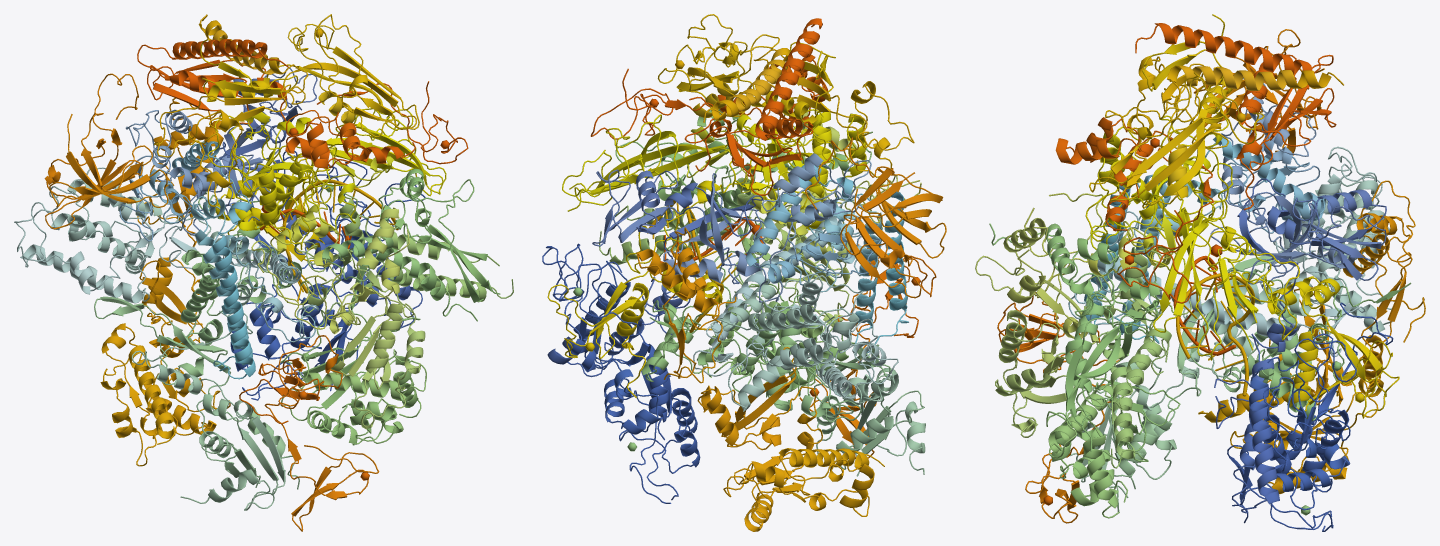
File: Protein_Model.glb
3 renders of one model, left to right at view 1: azimuth 30°, elevation 25°; view 2: azimuth 150°, elevation 25°; view 3: azimuth 270°, elevation 25°, orthographic. The views are drawn at different scales.
Parts seen in each view (by area): view 1: node-geom15_29, node-geom17_27, node-geom19_25, node-geom14_30, node-geom13_31, node-geom12_32, node-geom11_33, node-geom18_26, node-geom10_34, node-geom16_28, node-geom9_35, node-geom20_24; view 2: node-geom10_34, node-geom18_26, node-geom12_32, node-geom16_28, node-geom17_27, node-geom9_35, node-geom19_25, node-geom11_33, node-geom13_31, node-geom14_30, node-geom15_29, node-geom20_24; view 3: node-geom17_27, node-geom13_31, node-geom16_28, node-geom14_30, node-geom10_34, node-geom9_35, node-geom15_29, node-geom19_25, node-geom12_32, node-geom18_26, node-geom11_33, node-geom20_24.
Boxes of the visible parts, <box> form: node-geom15_29: <box>230,117,425,429</box>; node-geom17_27: <box>129,14,419,444</box>; node-geom19_25: <box>44,59,415,531</box>; node-geom14_30: <box>280,168,513,445</box>; node-geom13_31: <box>94,177,500,489</box>; node-geom12_32: <box>20,167,285,510</box>; node-geom11_33: <box>14,141,318,379</box>; node-geom18_26: <box>66,98,230,466</box>; node-geom10_34: <box>119,68,317,241</box>; node-geom16_28: <box>207,108,446,250</box>; node-geom9_35: <box>230,151,425,400</box>; node-geom20_24: <box>137,39,468,249</box>; node-geom10_34: <box>592,153,880,304</box>; node-geom18_26: <box>636,206,931,531</box>; node-geom12_32: <box>710,273,925,476</box>; node-geom16_28: <box>547,109,866,359</box>; node-geom17_27: <box>616,14,914,467</box>; node-geom9_35: <box>542,243,700,503</box>; node-geom19_25: <box>684,54,946,458</box>; node-geom11_33: <box>693,165,908,398</box>; node-geom13_31: <box>615,131,924,454</box>; node-geom14_30: <box>599,109,854,396</box>; node-geom15_29: <box>683,107,921,327</box>; node-geom20_24: <box>590,18,822,265</box>; node-geom17_27: <box>1089,14,1386,422</box>; node-geom13_31: <box>989,223,1411,511</box>; node-geom16_28: <box>1085,112,1399,418</box>; node-geom14_30: <box>1046,238,1180,518</box>; node-geom10_34: <box>1210,78,1386,351</box>; node-geom9_35: <box>1214,302,1393,531</box>; node-geom15_29: <box>975,156,1233,437</box>; node-geom19_25: <box>997,29,1336,523</box>; node-geom12_32: <box>1061,146,1392,497</box>; node-geom18_26: <box>1204,68,1425,494</box>; node-geom11_33: <box>1068,137,1389,356</box>; node-geom20_24: <box>1117,23,1333,355</box>.
Bounding box in the file's own units: 4.03 × 4.4 × 3.59.
